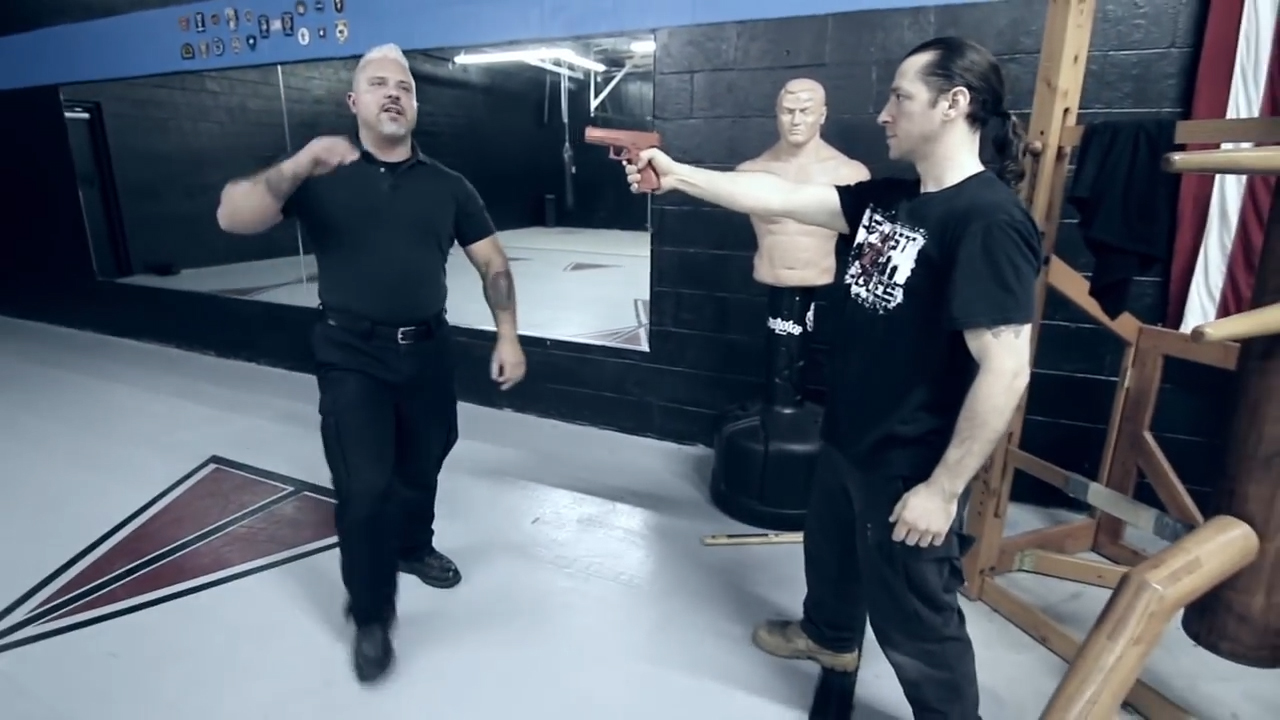pistol: (583, 124, 664, 192)
